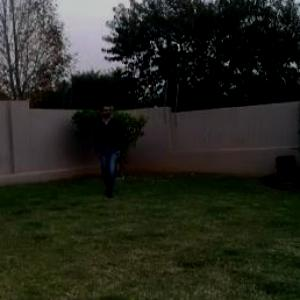follow: (94, 100, 123, 198)
